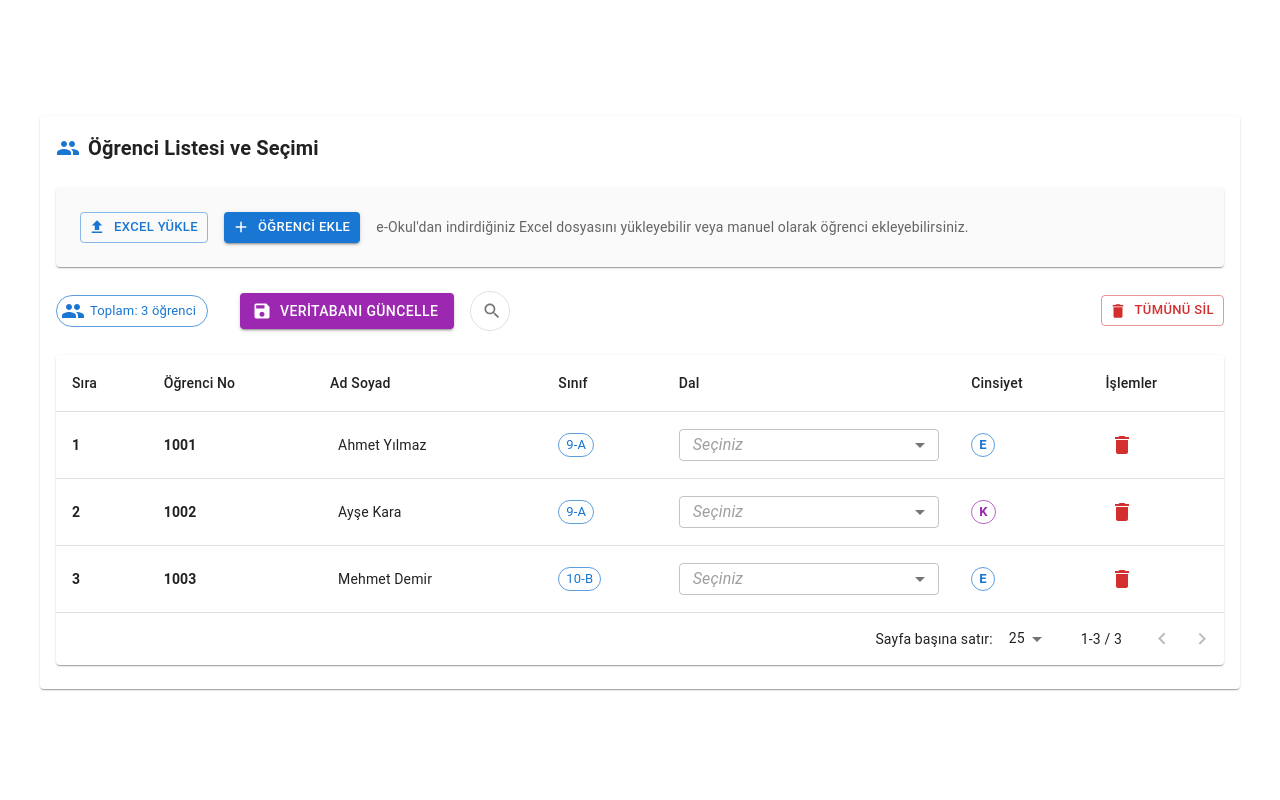
Test case: OgrenciListesi Component › should show delete confirmation dialog
Click the button titled "Öğrenciyi Sil" in the row of "1001" at {"x": 1122, "y": 445}, box [1105,428,1139,462]
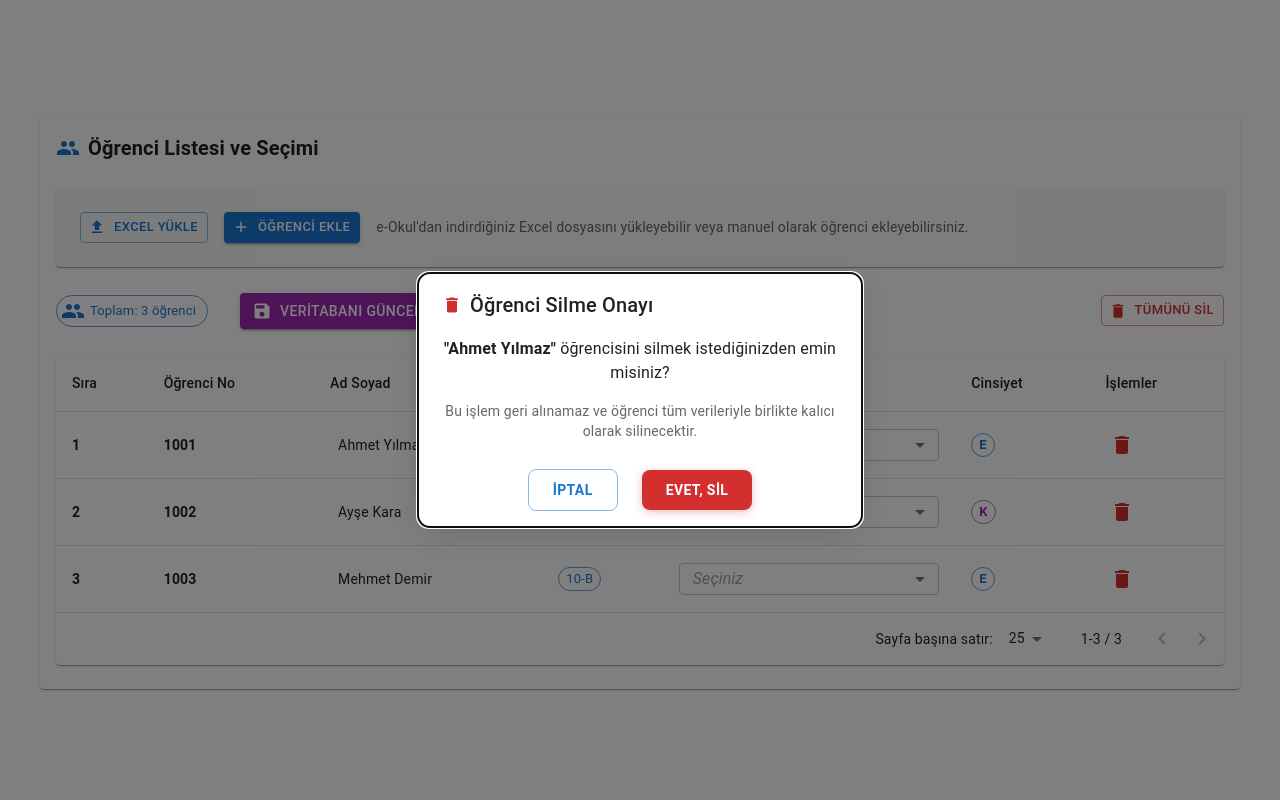
Expected: the heading "Öğrenci Silme Onayı" is shown, [442,293,653,317]
